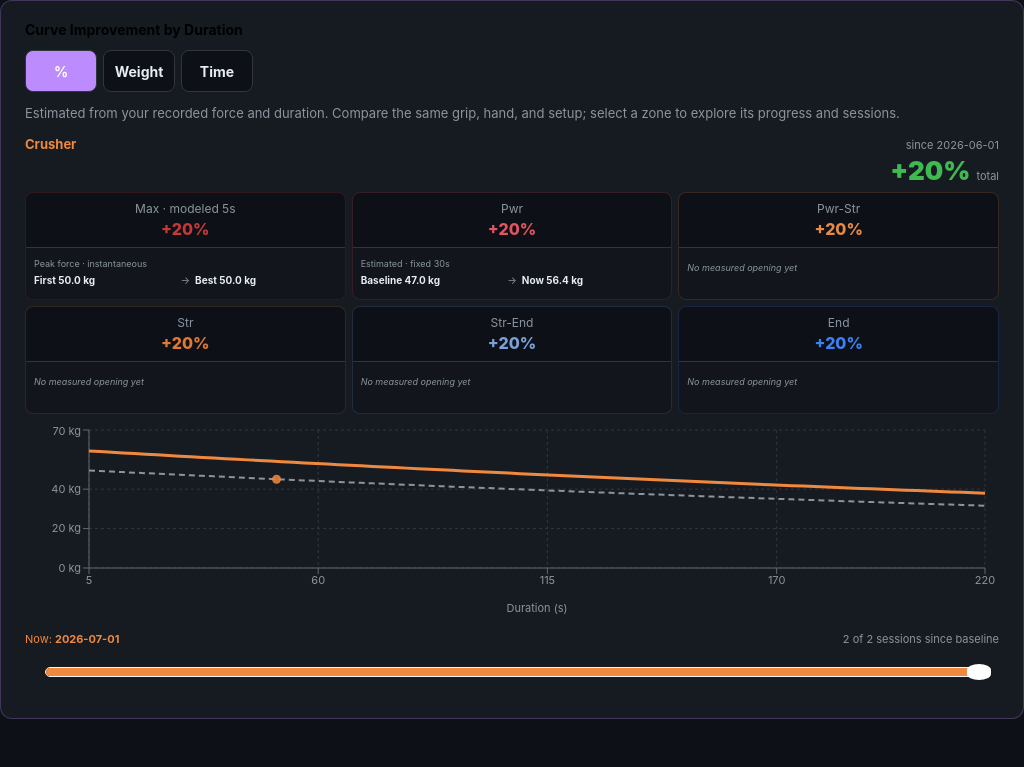
Scenario: hold-time weights are independent for each domain
This screenshot has width=1024, height=767.
Click the button "Time": click(217, 71) 181,50 -> 253,92
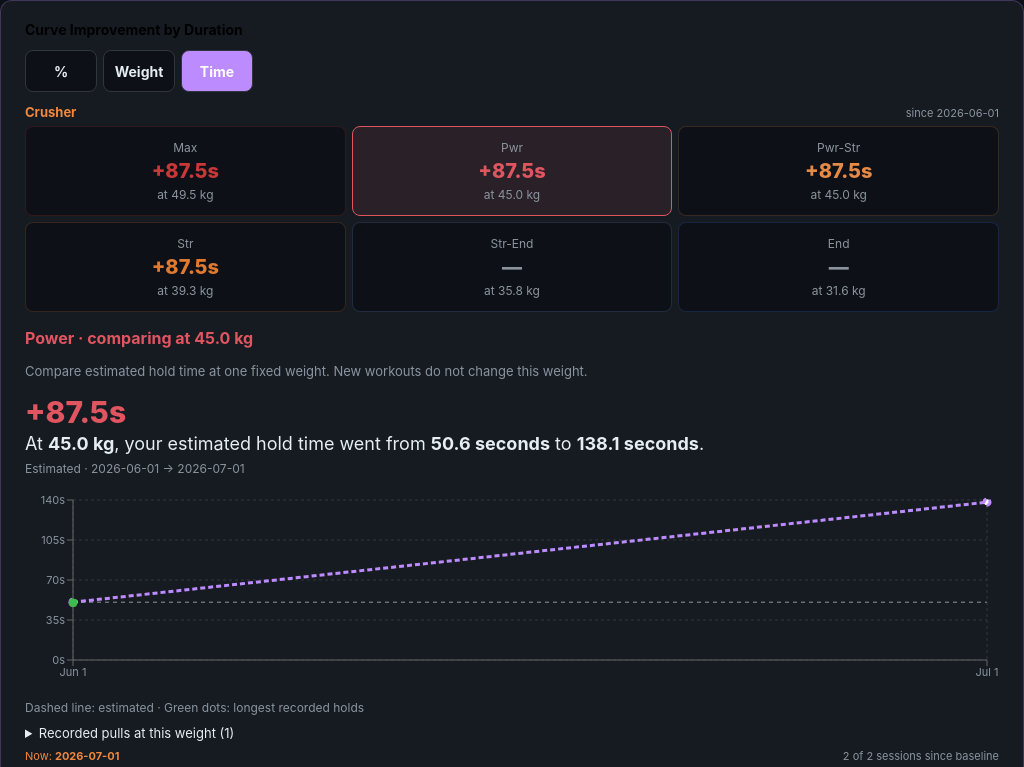
Click the button with aria-label "Strength hold time": click(185, 267) 25,222 -> 346,312
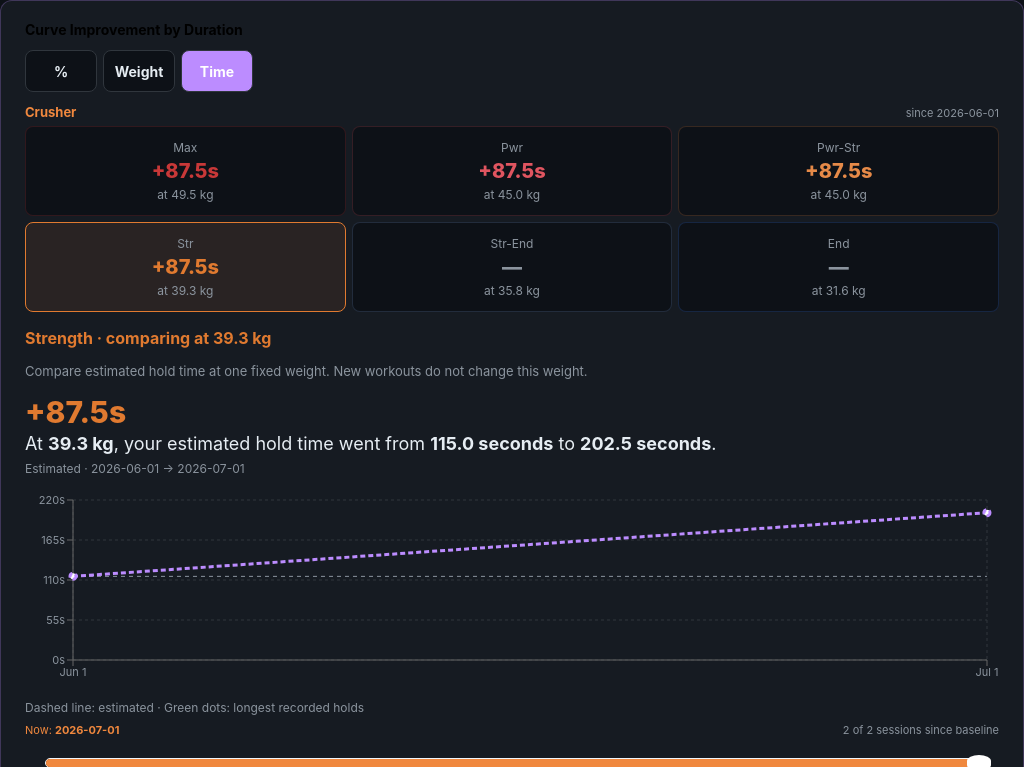
Expected: the text "Power · comparing at 45.0 kg" is gone
Click the button with aria-label "Power hold time": click(512, 171) 352,126 -> 672,216
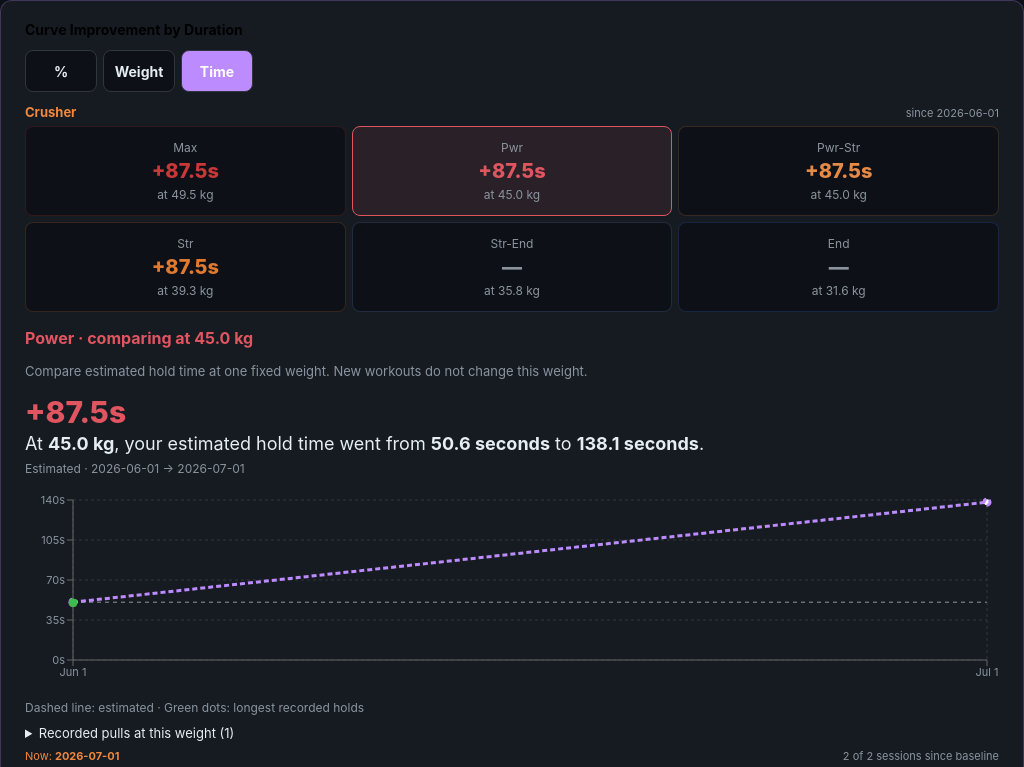
Expected: the text "Power · comparing at 45.0 kg" is shown, 25,328 -> 253,348
